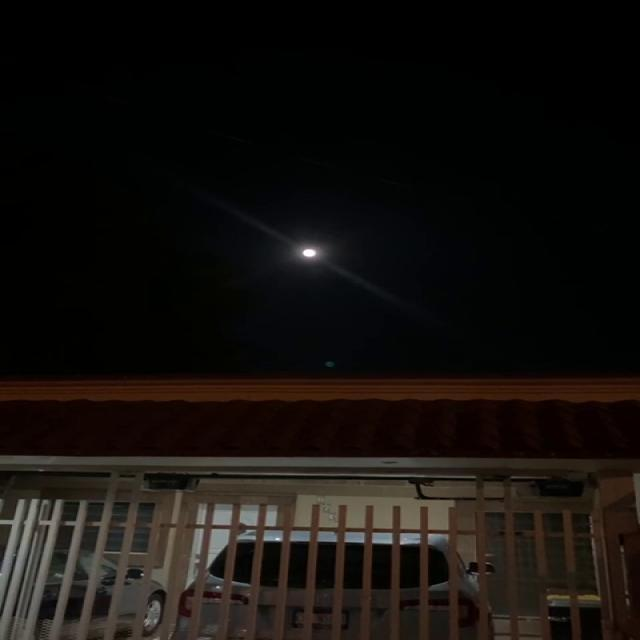moon: (290, 242, 332, 266)
